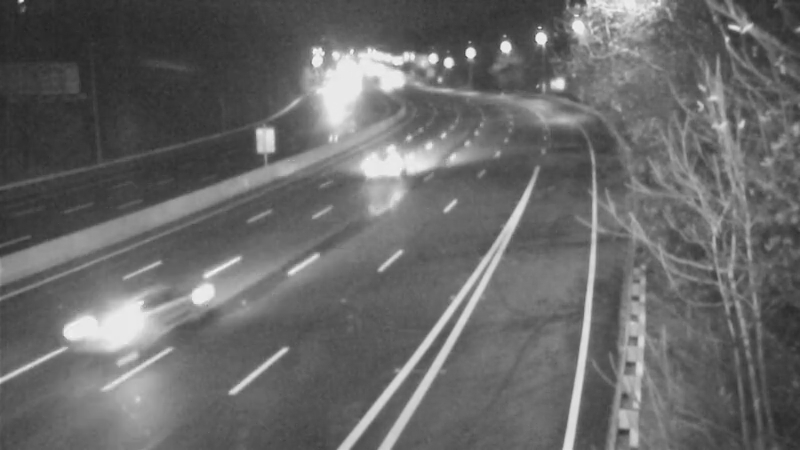vehicle: (51, 280, 161, 390), (350, 129, 430, 209)
